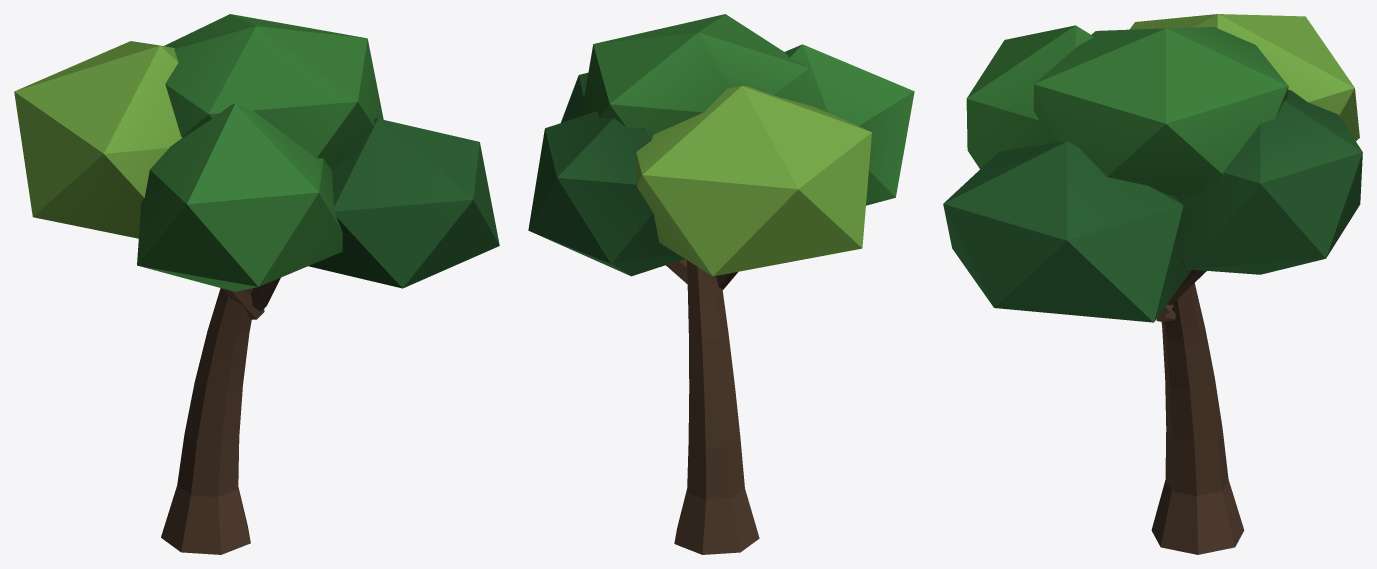
The model's file is Tree2_L.fbx.
The picture shows the model from 3 angles, left to right: view 1: azimuth 30°, elevation 25°; view 2: azimuth 150°, elevation 25°; view 3: azimuth 270°, elevation 25°; orthographic projection. The views are drawn at different scales.
Visible parts, largest first — view 1: Tree2_L; view 2: Tree2_L; view 3: Tree2_L.
Boxes of the visible parts, <box> form: Tree2_L: <box>14,14,499,554</box>; Tree2_L: <box>528,14,914,554</box>; Tree2_L: <box>943,14,1362,554</box>.
Size of the model in its own units: 5.17 by 6.79 by 4.94.
